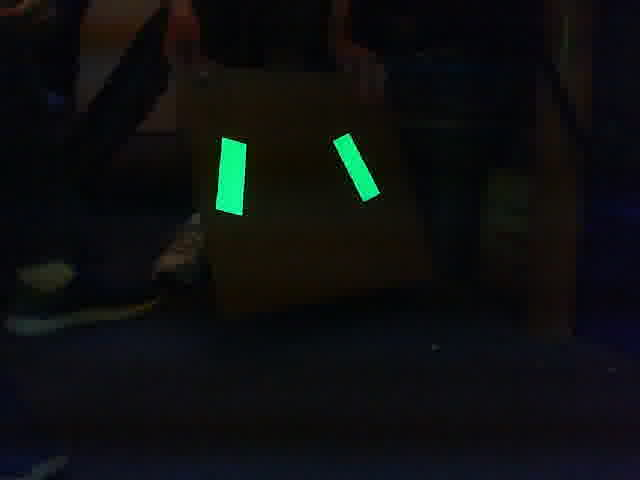target: (212, 132, 386, 217)
